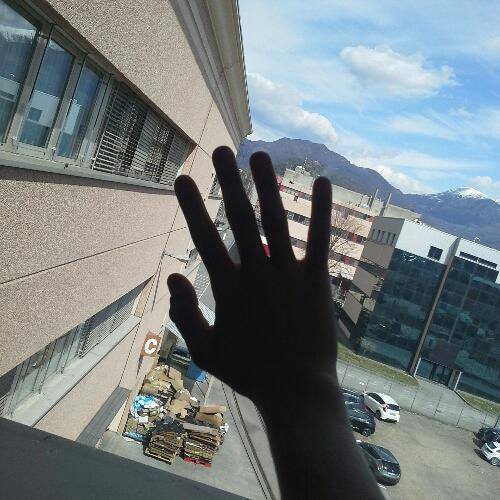paper: (160, 138, 350, 410)
